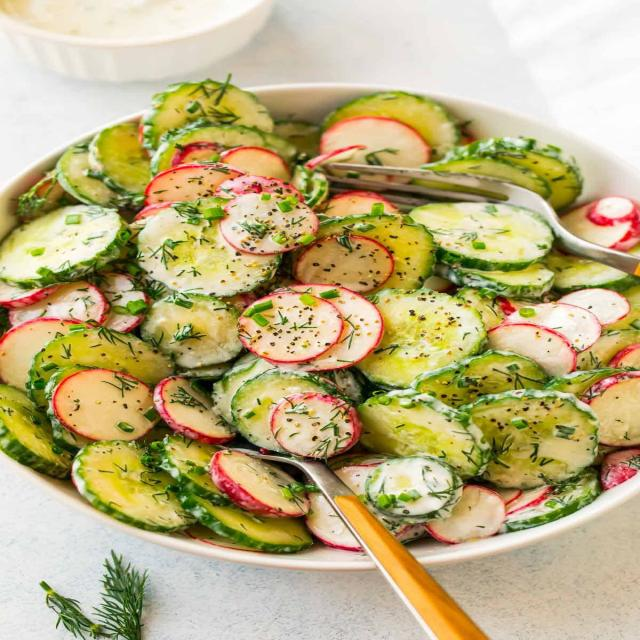Pickle: (137, 198, 281, 298), (461, 389, 600, 489), (356, 289, 488, 388), (356, 289, 488, 388), (358, 389, 491, 479), (26, 326, 174, 406), (71, 440, 197, 532), (422, 138, 583, 209), (0, 205, 129, 289), (141, 75, 274, 150), (411, 202, 555, 271), (322, 91, 461, 161), (231, 369, 343, 452), (317, 212, 437, 289), (178, 489, 313, 552), (411, 350, 548, 408), (150, 122, 298, 174), (0, 385, 73, 479), (501, 468, 602, 532), (366, 456, 463, 522), (150, 435, 231, 505), (422, 158, 551, 198), (88, 122, 152, 195), (546, 249, 639, 294), (54, 144, 120, 206)
